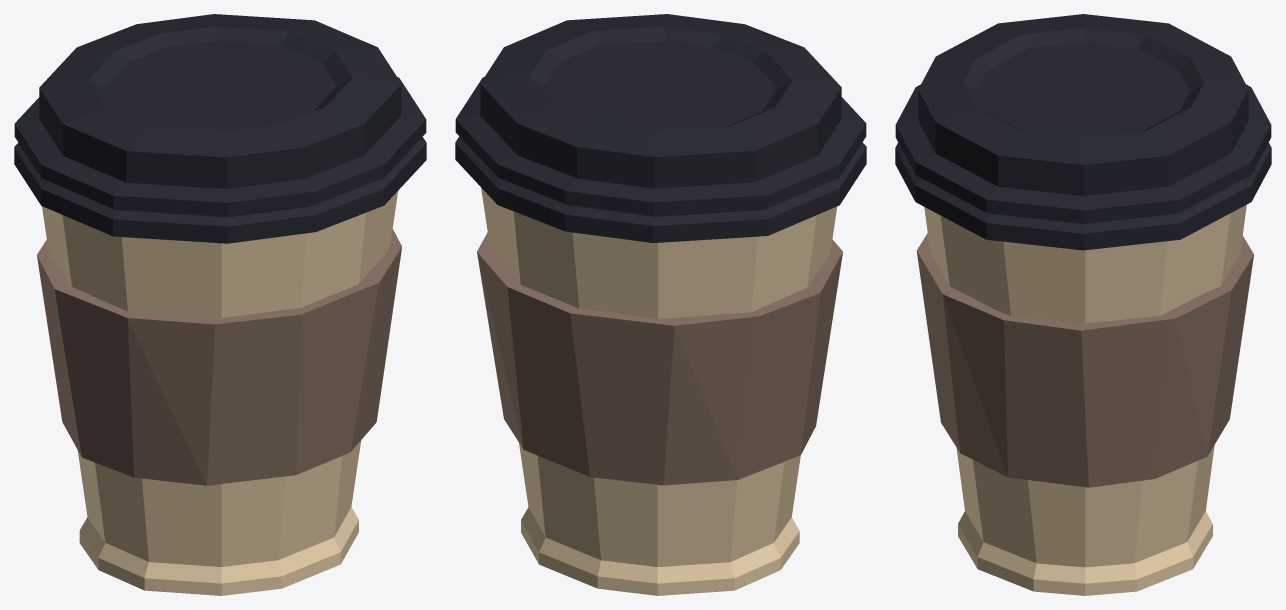
Rendered from coffee.glb.
3 views of the same model, side by side, from view 1: azimuth 30°, elevation 25°; view 2: azimuth 150°, elevation 25°; view 3: azimuth 270°, elevation 25° (orthographic).
Parts seen in each view (by area): view 1: Cube.001, Cylinder.001, Cylinder; view 2: Cube.001, Cylinder.001, Cylinder; view 3: Cube.001, Cylinder.001, Cylinder.
Part boxes in pixels (x1,y1,x2,y2): Cube.001: (14,14,426,243); Cylinder.001: (37,229,401,485); Cylinder: (42,191,398,595); Cube.001: (455,14,866,242); Cylinder.001: (477,232,842,485); Cylinder: (481,187,837,595); Cube.001: (895,14,1271,250); Cylinder.001: (916,233,1253,487); Cylinder: (924,204,1246,595).
Size of the model in its own units: 1.17 by 1.45 by 1.08.
